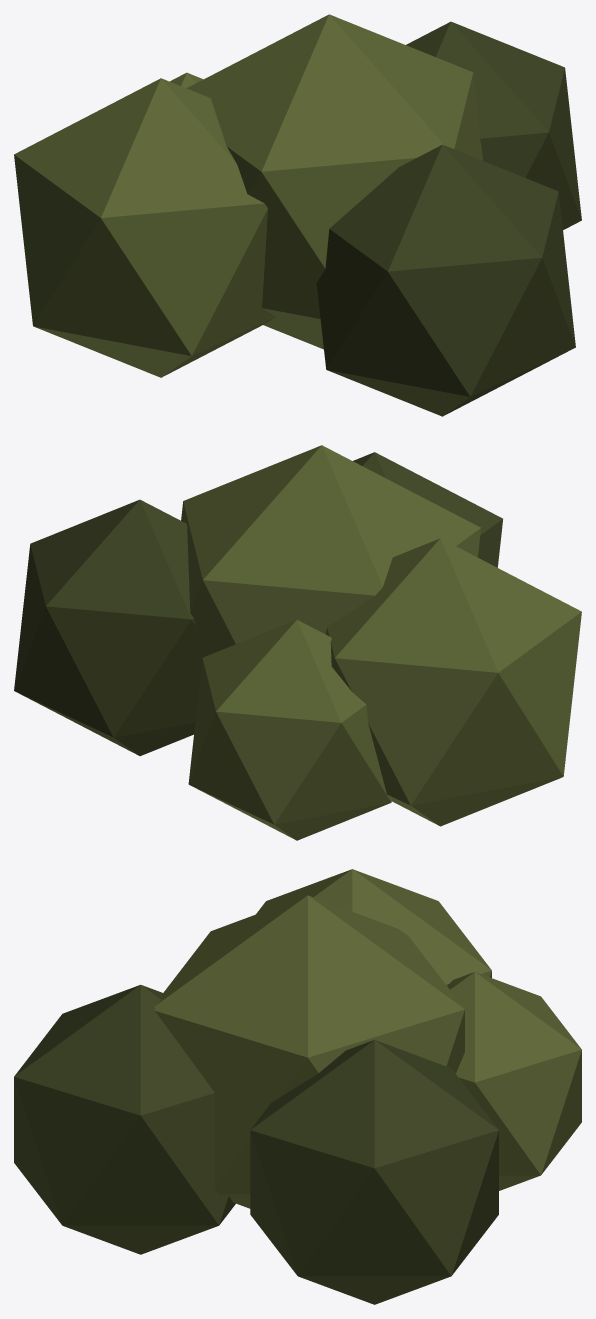
File: env_shrub.fbx
The picture shows the model from 3 angles, top to bottom: view 1: azimuth 30°, elevation 25°; view 2: azimuth 150°, elevation 25°; view 3: azimuth 270°, elevation 25°; orthographic projection. The views are drawn at different scales.
Visible parts, largest first — view 1: env_shrub; view 2: env_shrub; view 3: env_shrub.
Part boxes in pixels (x1,y1,x2,y2): env_shrub: (14,14,581,416); env_shrub: (14,445,581,840); env_shrub: (14,869,581,1304).
Size of the model in its own units: 559 by 342 by 510.
